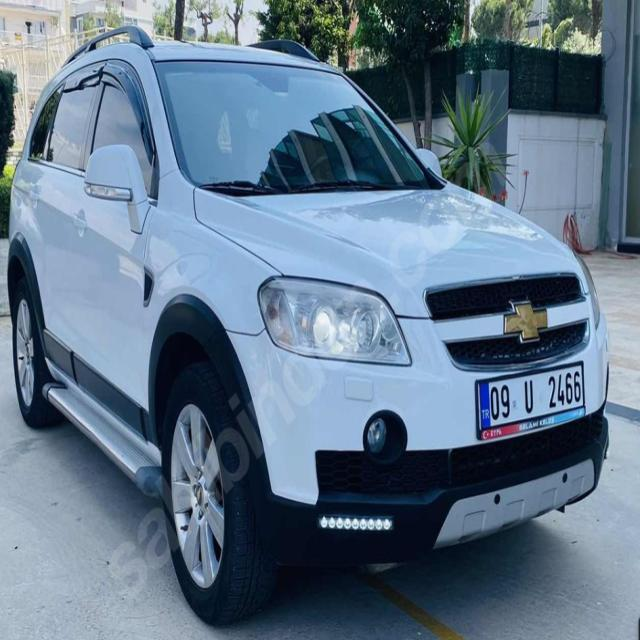chevrolet: (503, 298, 551, 348)
